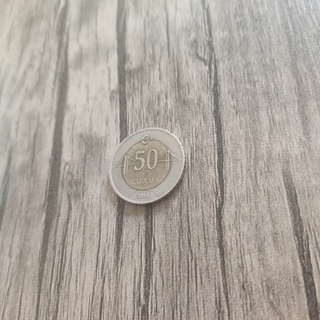50KURUS: (107, 126, 188, 207)
